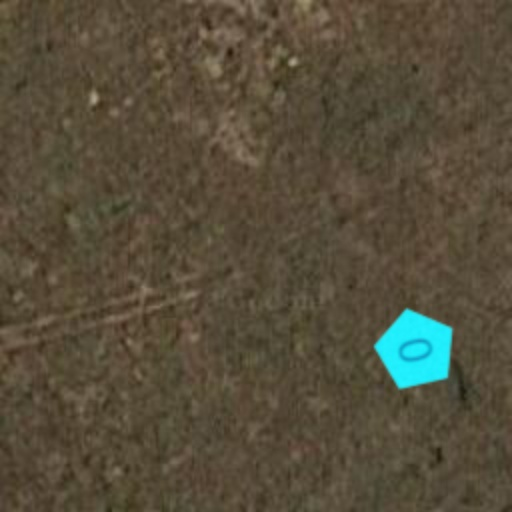pentagon: (364, 298, 468, 402)
